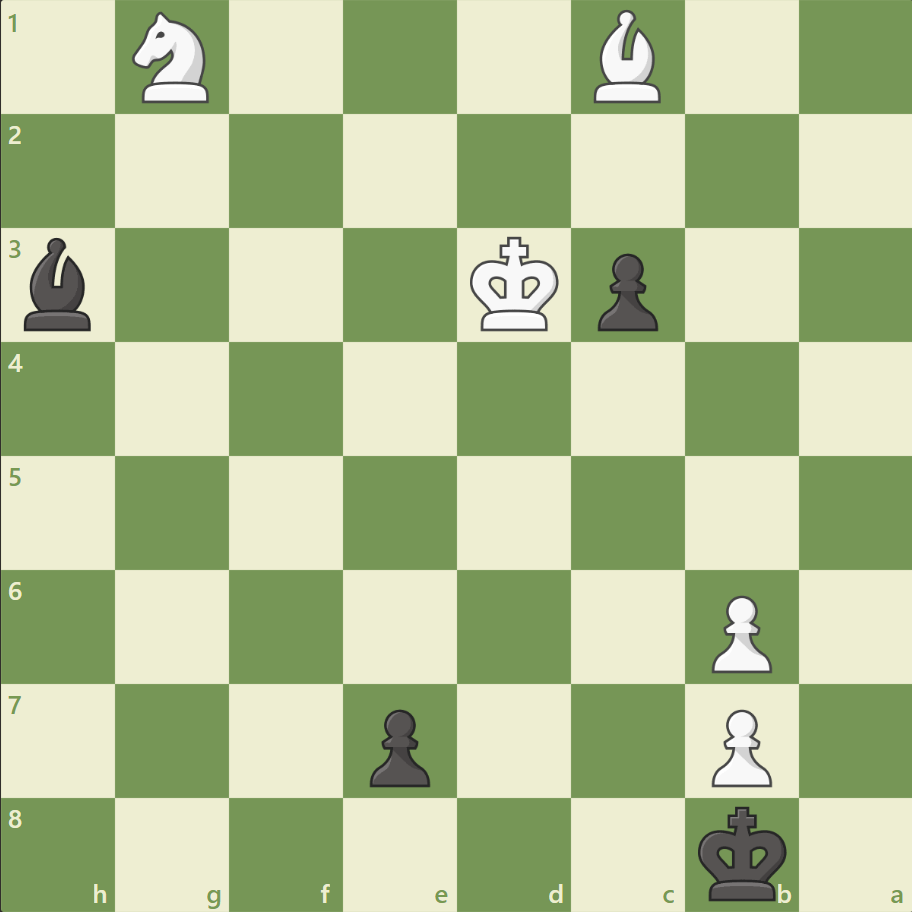B: (585, 6, 669, 109)
K: (465, 231, 565, 339)
N: (124, 7, 222, 110)
P: (701, 700, 776, 791), (701, 586, 776, 677)
b: (17, 233, 101, 336)
k: (692, 798, 792, 906)
p: (361, 700, 435, 791), (588, 246, 662, 337)
